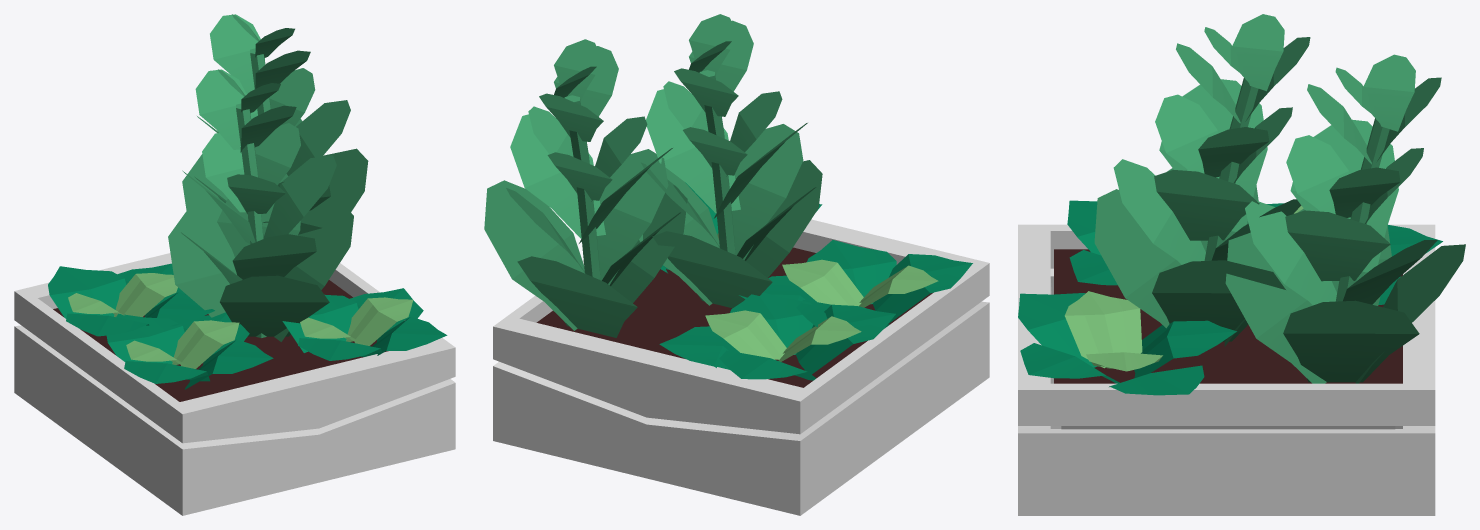
Rendered from Plant_farm_06.fbx.
The picture shows the model from 3 angles, left to right: view 1: azimuth 30°, elevation 25°; view 2: azimuth 150°, elevation 25°; view 3: azimuth 270°, elevation 25°; orthographic projection. The views are drawn at different scales.
Visible parts, largest first — view 1: polySurface2417, polySurface2080, polySurface2079, polySurface2418, polySurface2423, polySurface2408, polySurface2422, polySurface2081; view 2: polySurface2080, polySurface2418, polySurface2417, polySurface2079, polySurface2408, polySurface2423, polySurface2081; view 3: polySurface2418, polySurface2080, polySurface2417, polySurface2079, polySurface2422, polySurface2081, polySurface2423, polySurface2082, polySurface2408.
Boxes of the visible parts, <box> form: polySurface2417: <box>168,69,353,341</box>; polySurface2080: <box>14,325,455,515</box>; polySurface2079: <box>14,253,455,443</box>; polySurface2418: <box>182,14,368,234</box>; polySurface2423: <box>106,312,273,389</box>; polySurface2408: <box>48,263,214,336</box>; polySurface2422: <box>282,288,447,360</box>; polySurface2081: <box>53,280,388,401</box>; polySurface2080: <box>493,301,989,515</box>; polySurface2418: <box>484,39,687,337</box>; polySurface2417: <box>639,14,822,308</box>; polySurface2079: <box>493,219,989,434</box>; polySurface2408: <box>659,292,895,380</box>; polySurface2423: <box>739,240,972,328</box>; polySurface2081: <box>536,247,933,387</box>; polySurface2418: <box>1225,54,1465,383</box>; polySurface2080: <box>1018,268,1435,515</box>; polySurface2417: <box>1094,14,1310,346</box>; polySurface2079: <box>1018,224,1435,425</box>; polySurface2422: <box>1018,291,1236,395</box>; polySurface2081: <box>1054,249,1402,383</box>; polySurface2423: <box>1067,200,1117,285</box>; polySurface2082: <box>1061,426,1395,429</box>; polySurface2408: <box>1267,203,1442,304</box>.
Size of the model in its own units: 1.84 by 1.85 by 1.79.
